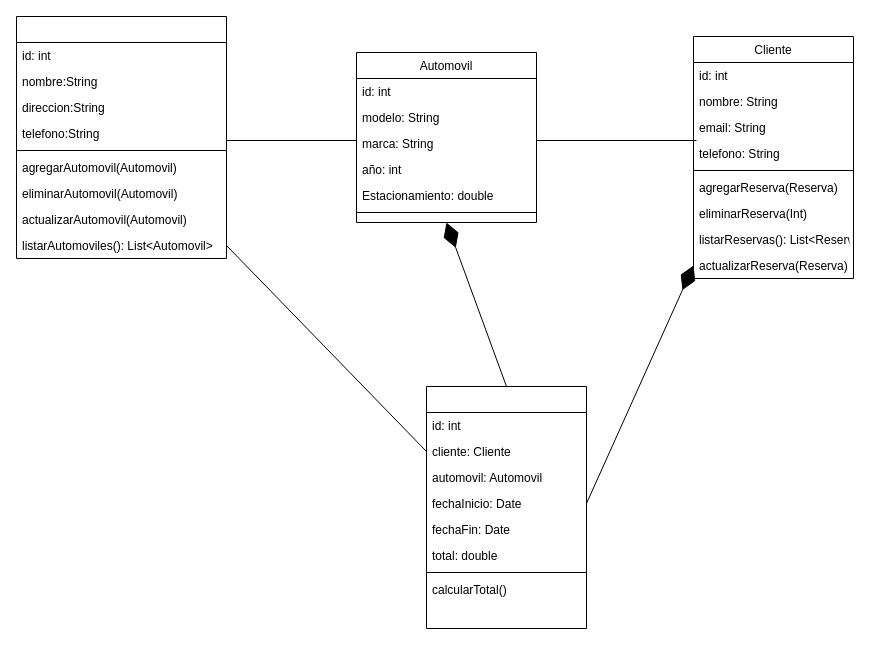
The diagram is 884 pixels wide and 645 high, and some of its shapes have lost their labels. The box of each missing label's shape, as (x1, y1, x2, y2) in pixels:
Agencia: (16, 16, 226, 258)
Reserva: (426, 386, 586, 628)
